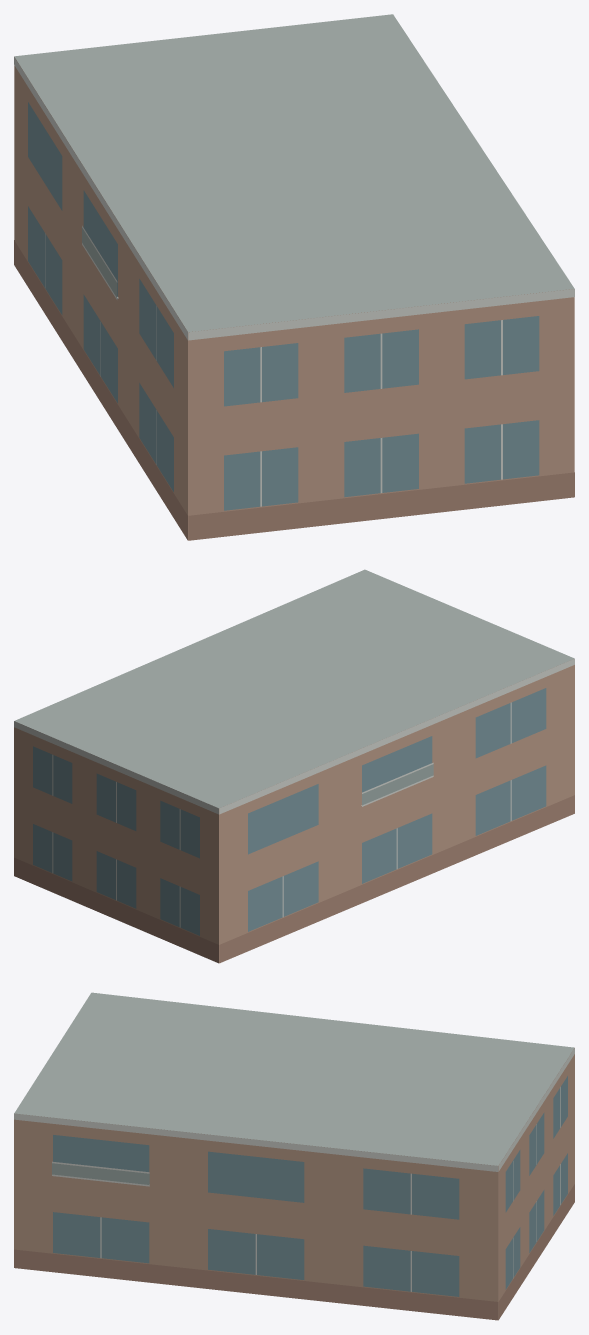
Rendered from survey-upis-32914769.glb.
3 renders of one model, top to bottom at view 1: azimuth 30°, elevation 25°; view 2: azimuth 150°, elevation 25°; view 3: azimuth 270°, elevation 25°, orthographic. The views are drawn at different scales.
Visible parts, largest first — view 1: survey-upis-32914769.tmp; view 2: survey-upis-32914769.tmp; view 3: survey-upis-32914769.tmp.
Part boxes in pixels (left/top/right/bottom): survey-upis-32914769.tmp: left=14, top=14, right=574, bottom=540; survey-upis-32914769.tmp: left=14, top=569, right=574, bottom=963; survey-upis-32914769.tmp: left=14, top=992, right=574, bottom=1320.
Bounding box in the file's own units: 14.69 × 6.1 × 20.07.
